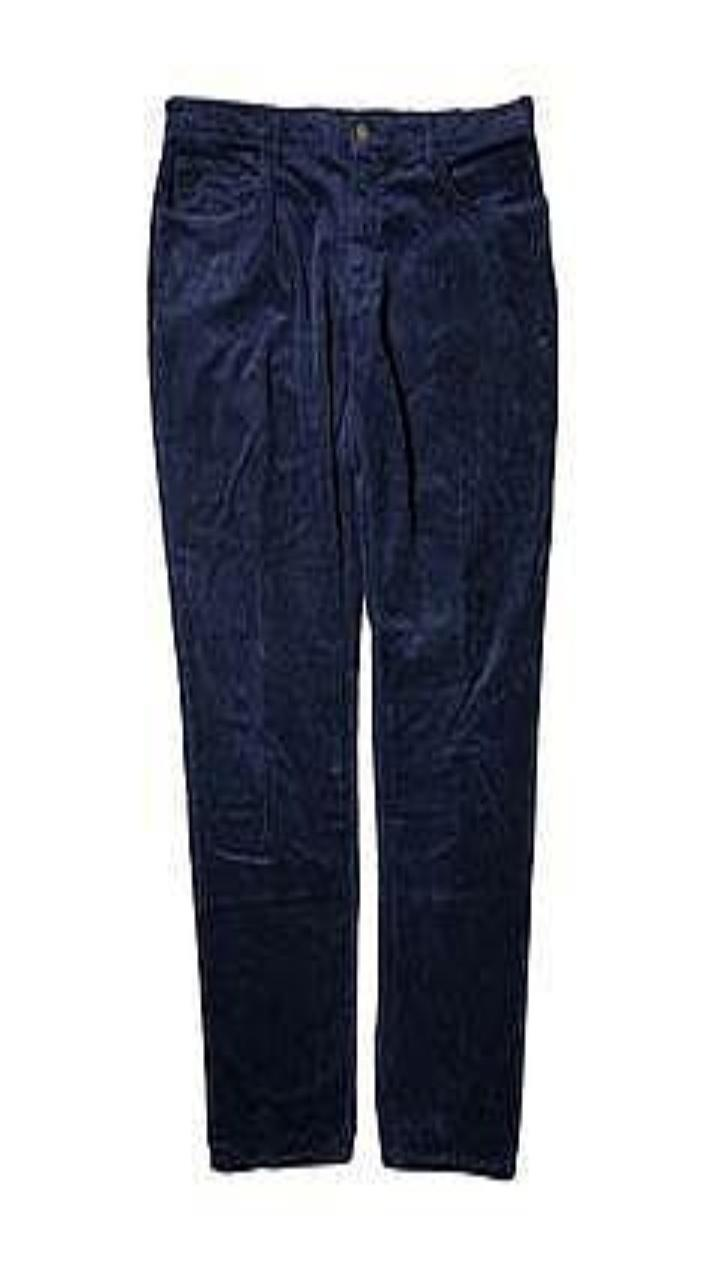Jeans: (150, 98, 555, 1177)
